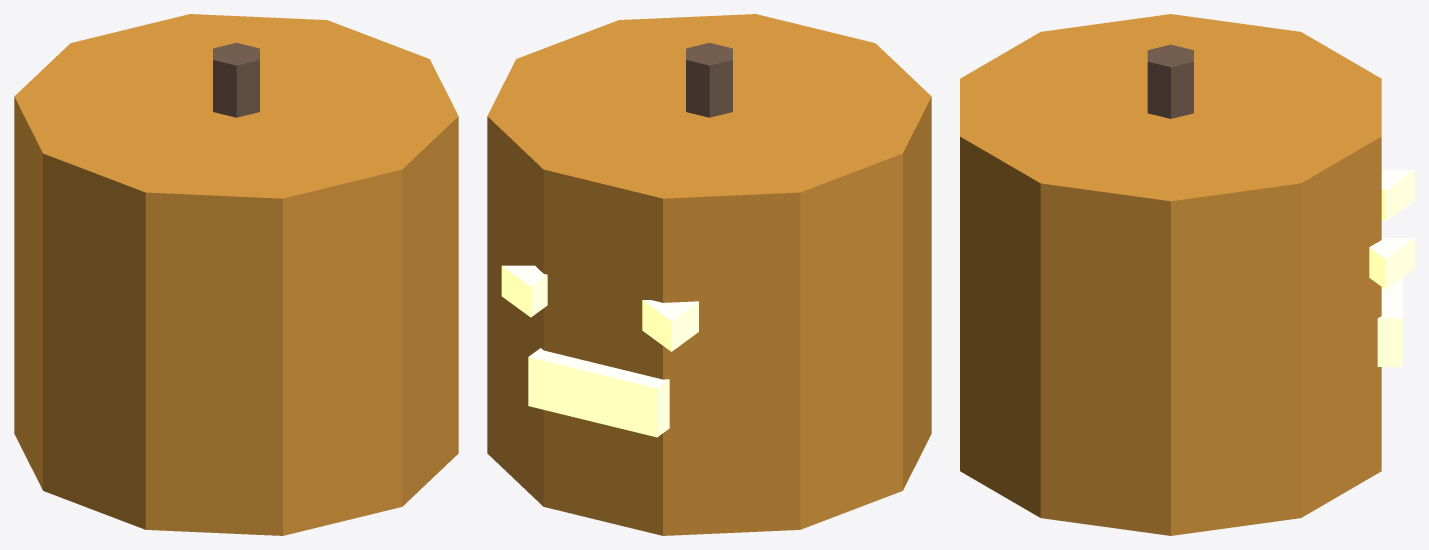
Rendered from haunted_pumpkin_jack.glb.
3 views of the same model, side by side, from view 1: azimuth 30°, elevation 25°; view 2: azimuth 150°, elevation 25°; view 3: azimuth 270°, elevation 25° (orthographic).
Visible parts, largest first — view 1: Haunted_Pumpkin_Jack; view 2: Haunted_Pumpkin_Jack; view 3: Haunted_Pumpkin_Jack.
Part boxes in pixels (x1,y1,x2,y2): Haunted_Pumpkin_Jack: [14, 14, 458, 535]; Haunted_Pumpkin_Jack: [487, 14, 931, 535]; Haunted_Pumpkin_Jack: [960, 14, 1414, 535].
Bounding box in the file's own units: 0.66 × 0.635 × 0.6771.
